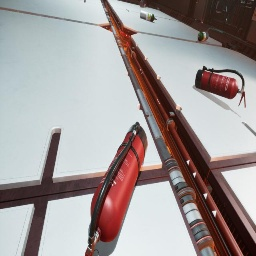0: (140, 10, 157, 22), (198, 32, 209, 42)
EmergencyPhone ,: (196, 0, 198, 3)
FireExtinguisher ]: (85, 122, 148, 256), (195, 66, 246, 108), (239, 91, 242, 94)
NitrogenTank ,: (140, 1, 147, 7)
SafetySwitchPanel ,: (251, 6, 256, 21)
